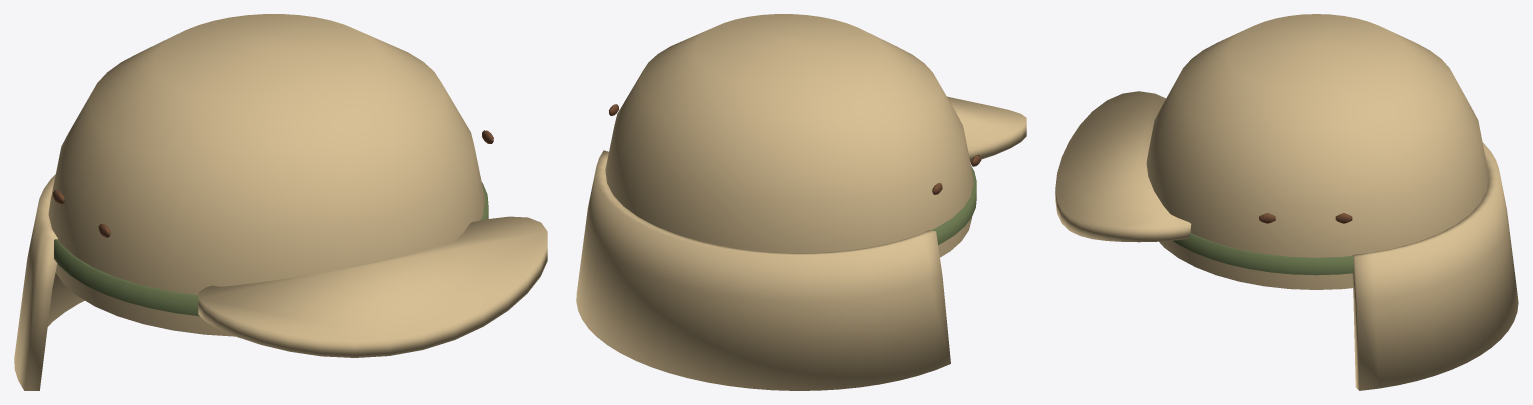
Rendered from 10-neck-shade-cap.glb.
3 views of the same model, side by side, from view 1: azimuth 30°, elevation 25°; view 2: azimuth 150°, elevation 25°; view 3: azimuth 270°, elevation 25° (orthographic). The views are drawn at different scales.
Visible parts, largest first — view 1: Hat10_Crown1, Hat10_Visor2, Hat10_NeckFlap3, Hat10_Band4; view 2: Hat10_Crown1, Hat10_NeckFlap3, Hat10_Visor2, Hat10_Band4; view 3: Hat10_Crown1, Hat10_NeckFlap3, Hat10_Visor2, Hat10_Band4.
Boxes of the visible parts, x1,y1,x2,y2 form: Hat10_Crown1: [48, 14, 484, 336]; Hat10_Visor2: [198, 216, 547, 357]; Hat10_NeckFlap3: [14, 174, 84, 390]; Hat10_Band4: [54, 182, 488, 316]; Hat10_Crown1: [605, 14, 973, 257]; Hat10_NeckFlap3: [576, 150, 950, 390]; Hat10_Visor2: [947, 96, 1026, 162]; Hat10_Band4: [931, 166, 976, 244]; Hat10_Crown1: [1146, 14, 1488, 289]; Hat10_NeckFlap3: [1352, 142, 1518, 390]; Hat10_Visor2: [1055, 91, 1191, 242]; Hat10_Band4: [1173, 233, 1353, 275].
Size of the model in its own units: 0.6837 by 0.47 by 0.7566.
